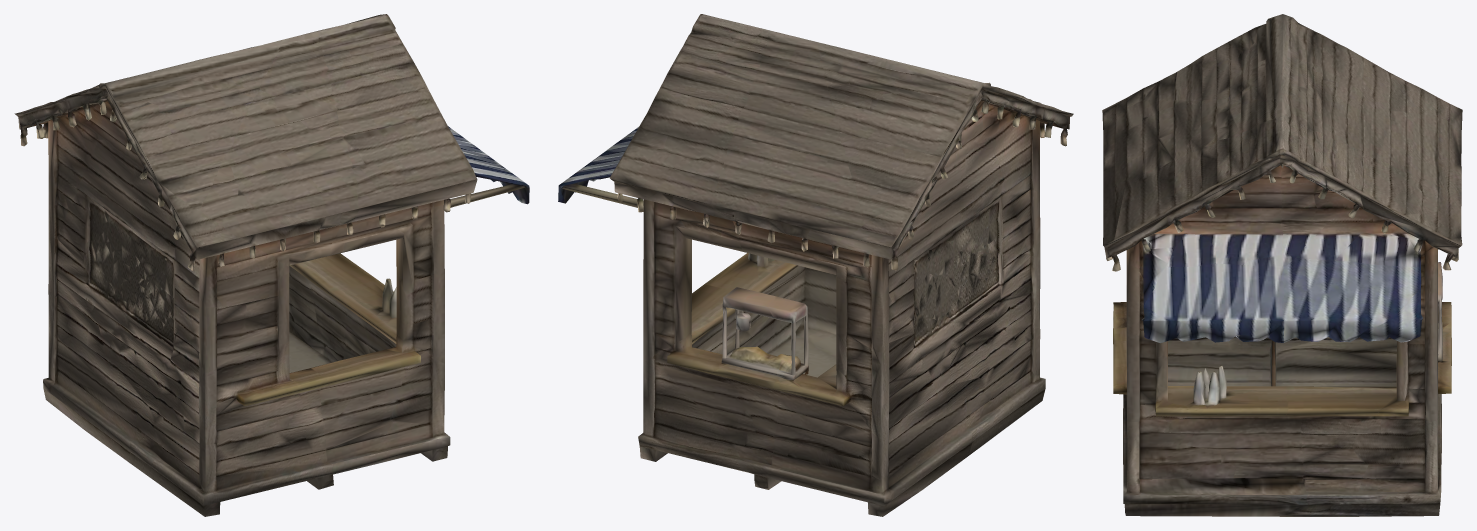
The model's file is pier_carnival_booth.glb.
The picture shows the model from 3 angles, left to right: view 1: azimuth 30°, elevation 25°; view 2: azimuth 150°, elevation 25°; view 3: azimuth 270°, elevation 25°; orthographic projection.
Parts seen in each view (by area): view 1: tripo_node_51d79415-f433-47cd-b293-b0f2a590b985; view 2: tripo_node_51d79415-f433-47cd-b293-b0f2a590b985; view 3: tripo_node_51d79415-f433-47cd-b293-b0f2a590b985.
Part boxes in pixels (x1=…): tripo_node_51d79415-f433-47cd-b293-b0f2a590b985: x1=14, y1=14, x2=529, y2=516; tripo_node_51d79415-f433-47cd-b293-b0f2a590b985: x1=558, y1=14, x2=1073, y2=516; tripo_node_51d79415-f433-47cd-b293-b0f2a590b985: x1=1102, y1=14, x2=1462, y2=516.
Bounding box in the file's own units: 0.9736 × 0.9995 × 0.8646.
Materials: 1 (1 with a texture image).
